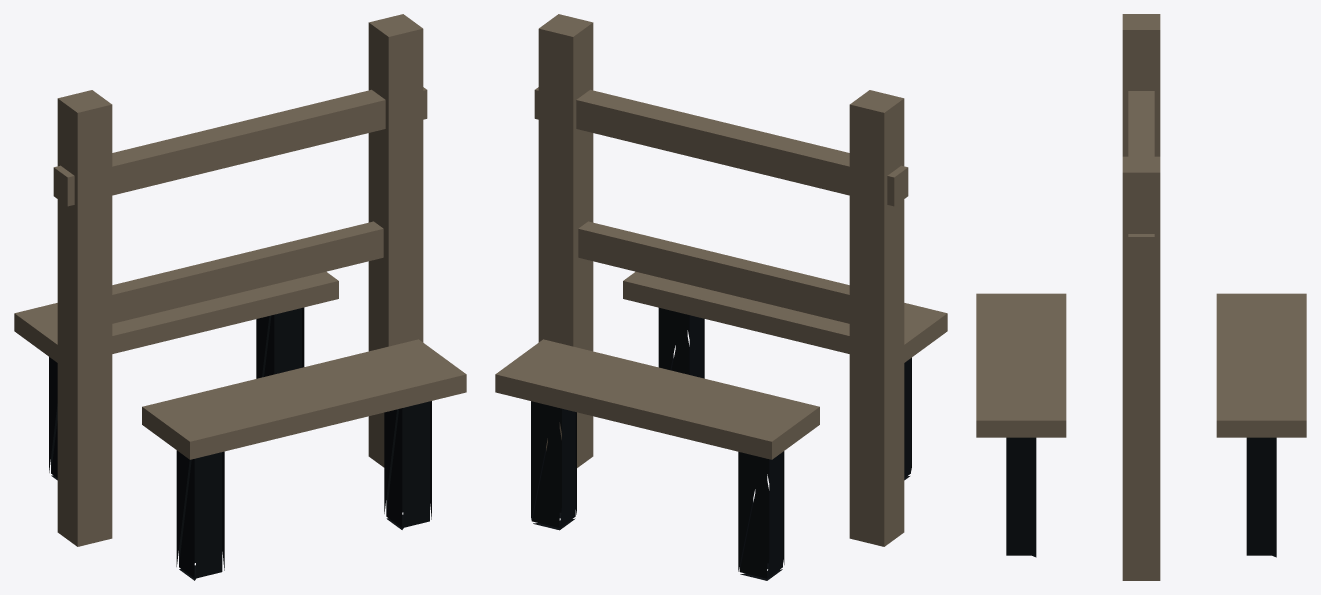
The model's file is boundary.gate.stile_a.glb.
The picture shows the model from 3 angles, left to right: view 1: azimuth 30°, elevation 25°; view 2: azimuth 150°, elevation 25°; view 3: azimuth 270°, elevation 25°; orthographic projection. The views are drawn at different scales.
Parts seen in each view (by area): view 1: main__glaze_765, main__galv_765, main__glass_dark; view 2: main__glaze_765, main__galv_765, main__glass_dark; view 3: main__glaze_765, main__glass_dark, main__galv_765.
Part boxes in pixels (x1,y1,x2,y2): main__glaze_765: (14,14,466,546); main__galv_765: (53,87,427,323); main__glass_dark: (49,307,431,580); main__glaze_765: (495,14,947,546); main__galv_765: (534,87,908,323); main__glass_dark: (531,307,911,580); main__glaze_765: (976,14,1306,580); main__glass_dark: (1006,437,1276,557); main__galv_765: (1128,91,1154,264).
Size of the model in its own units: 1.04 by 1.21 by 0.88.
